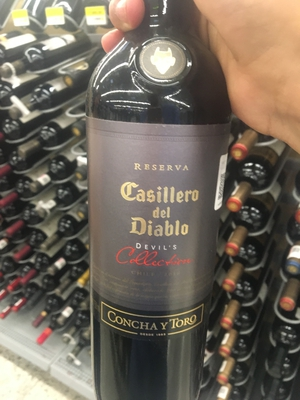casillero del diablo devils collection rojo: (73, 32, 235, 400)
